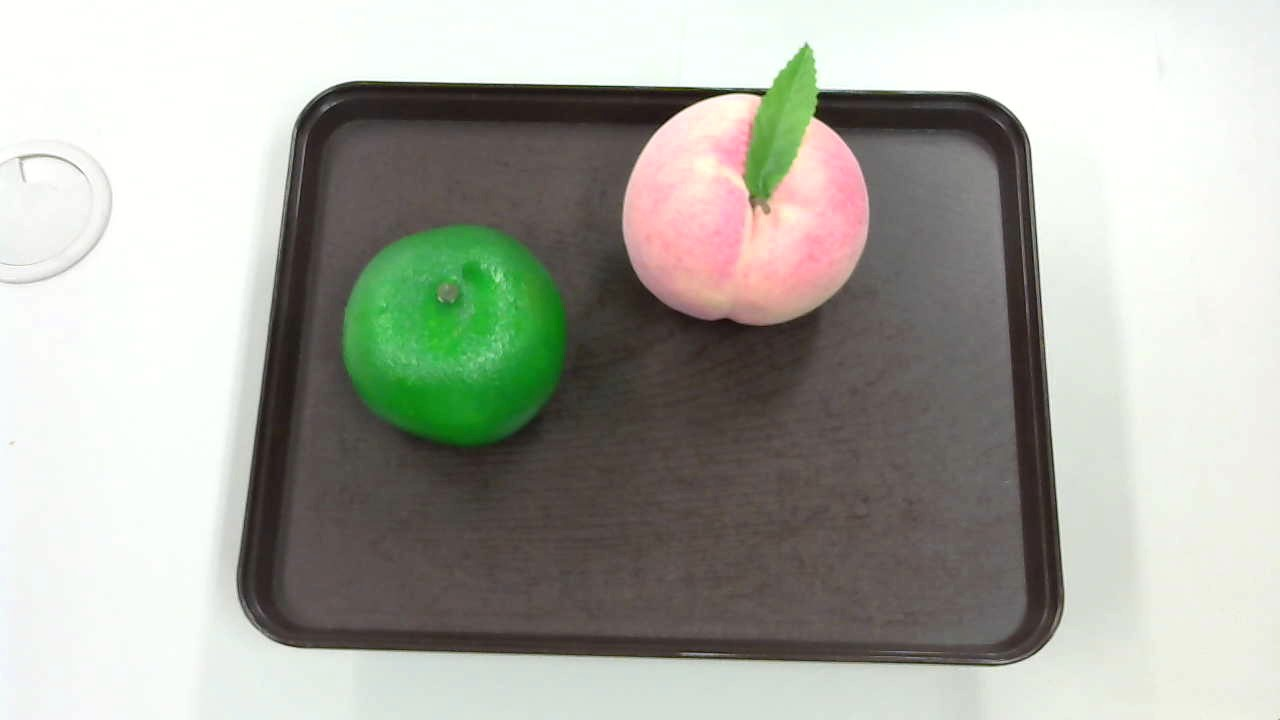green orange: (328, 221, 568, 453)
peach: (619, 42, 877, 332)
